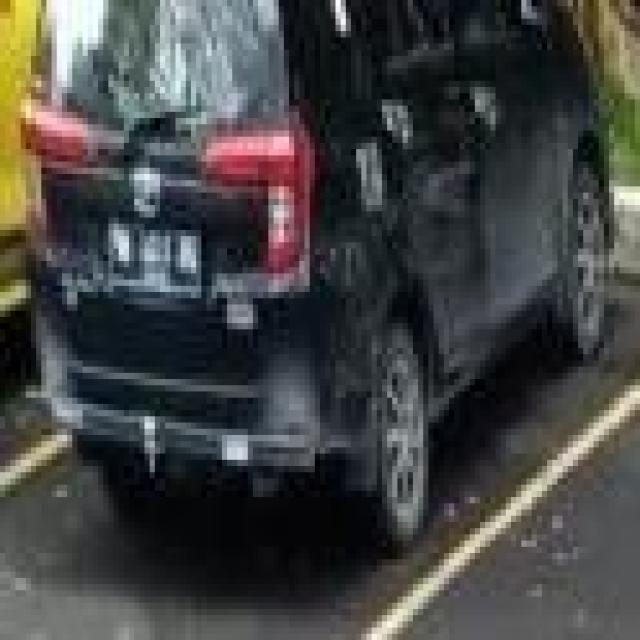Car: (5, 0, 640, 572)
